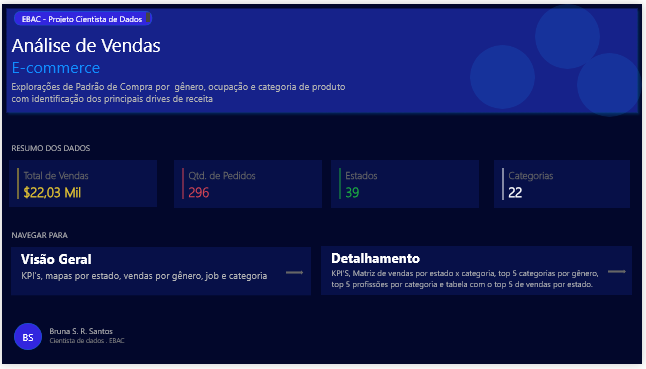

This screenshot's page, from the dashboard's own definition file:
{"tool":"powerbi","page":{"name":"Inicial","canvas":[1280,720],"ordinal":0},"visuals":[{"type":"cardVisual","title":"Total de Vendas","fields":{"Data":["Sum(dados_ecommerce_final.Price)"]},"box":[14.3,312.9,295.7,94.3],"z":0},{"type":"cardVisual","title":"Total de Vendas","fields":{"Data":["dados_ecommerce_final.Qtd_Pedidos"]},"box":[344.3,311.4,295.7,95.7],"z":2},{"type":"cardVisual","title":"Total de Vendas","fields":{"Data":["Count(dados_ecommerce_final.state_name)"]},"box":[658.6,311.4,295.7,95.7],"z":3},{"type":"cardVisual","title":"Total de Vendas","fields":{"Data":["Count(dados_ecommerce_final.Category)"]},"box":[984,312,272,96],"z":4},{"type":"shape","box":[0,0,1280,226],"z":5},{"type":"shape","box":[1066,0,130,130],"z":6},{"type":"shape","box":[936,82,130,128],"z":7},{"type":"shape","box":[1150,98,130,128],"z":8},{"type":"textbox","box":[14,50,314,64],"z":9},{"type":"textbox","box":[14,98,206,64],"z":10},{"type":"textbox","box":[14,146,700,64],"z":11},{"type":"shape","box":[24.4,13.3,276.7,28.9],"z":12},{"type":"textbox","box":[34.4,12.2,266.7,30],"z":13},{"type":"textbox","box":[14,272,228,40],"z":14},{"type":"textbox","box":[14,446,228,40],"z":15},{"type":"actionButton","box":[18.3,486.7,600,96.7],"z":16},{"type":"textbox","box":[34,524,520,38],"z":17},{"type":"shape","box":[568.3,531.7,35,10],"z":18},{"type":"actionButton","box":[638,484.3,622,98],"z":19},{"type":"textbox","box":[654,522,558,60],"z":20},{"type":"shape","box":[1212.5,530.8,36.2,10],"z":21},{"type":"shape","box":[24,638,56,54],"z":22},{"type":"textbox","box":[90,637.5,193.8,53.8],"z":23}]}

Visuals, with their boxes on the page's 1280x720 design canvas (x1, y1, x2, y2). These are canvas units, not pixel positions in the 646x369 screenshot, which may show the page scaled, cropped or inside an application window:
"Total de Vendas" cardVisual: {"x1": 14, "y1": 313, "x2": 310, "y2": 407}
"Total de Vendas" cardVisual: {"x1": 344, "y1": 311, "x2": 640, "y2": 407}
"Total de Vendas" cardVisual: {"x1": 659, "y1": 311, "x2": 954, "y2": 407}
"Total de Vendas" cardVisual: {"x1": 984, "y1": 312, "x2": 1256, "y2": 408}
shape: {"x1": 0, "y1": 0, "x2": 1280, "y2": 226}
shape: {"x1": 1066, "y1": 0, "x2": 1196, "y2": 130}
shape: {"x1": 936, "y1": 82, "x2": 1066, "y2": 210}
shape: {"x1": 1150, "y1": 98, "x2": 1280, "y2": 226}
textbox: {"x1": 14, "y1": 50, "x2": 328, "y2": 114}
textbox: {"x1": 14, "y1": 98, "x2": 220, "y2": 162}
textbox: {"x1": 14, "y1": 146, "x2": 714, "y2": 210}
shape: {"x1": 24, "y1": 13, "x2": 301, "y2": 42}
textbox: {"x1": 34, "y1": 12, "x2": 301, "y2": 42}
textbox: {"x1": 14, "y1": 272, "x2": 242, "y2": 312}
textbox: {"x1": 14, "y1": 446, "x2": 242, "y2": 486}
actionButton: {"x1": 18, "y1": 487, "x2": 618, "y2": 583}
textbox: {"x1": 34, "y1": 524, "x2": 554, "y2": 562}
shape: {"x1": 568, "y1": 532, "x2": 603, "y2": 542}
actionButton: {"x1": 638, "y1": 484, "x2": 1260, "y2": 582}
textbox: {"x1": 654, "y1": 522, "x2": 1212, "y2": 582}
shape: {"x1": 1212, "y1": 531, "x2": 1249, "y2": 541}
shape: {"x1": 24, "y1": 638, "x2": 80, "y2": 692}
textbox: {"x1": 90, "y1": 638, "x2": 284, "y2": 691}
